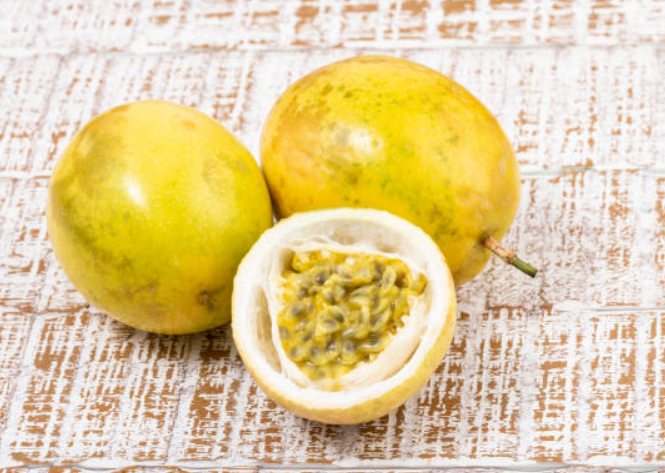maracuya: (257, 50, 527, 296), (48, 98, 272, 340)
